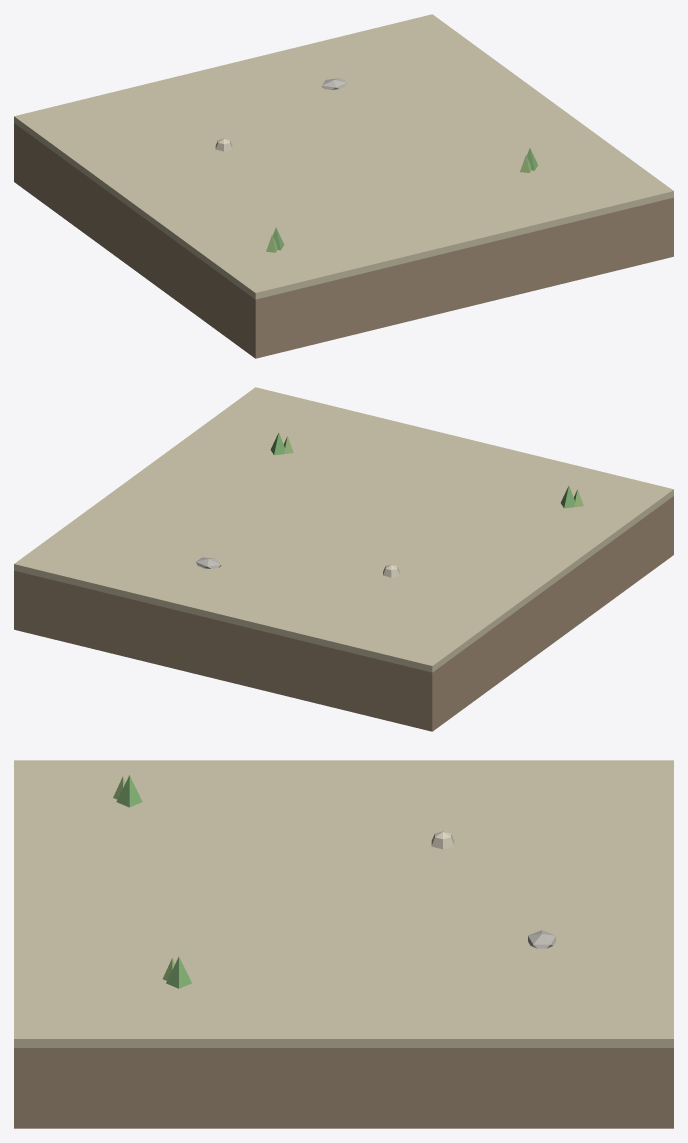
File: terreno__areia.glb
3 views of the same model, one above another, from view 1: azimuth 30°, elevation 25°; view 2: azimuth 150°, elevation 25°; view 3: azimuth 270°, elevation 25° (orthographic). The views are drawn at different scales.
Visible parts, largest first — view 1: terreno__areia; view 2: terreno__areia; view 3: terreno__areia.
Boxes of the visible parts, x1=… form: terreno__areia: x1=14, y1=14, x2=673, y2=358; terreno__areia: x1=14, y1=387, x2=673, y2=731; terreno__areia: x1=14, y1=760, x2=673, y2=1128.
Size of the model in its own units: 2 by 0.39 by 2.
